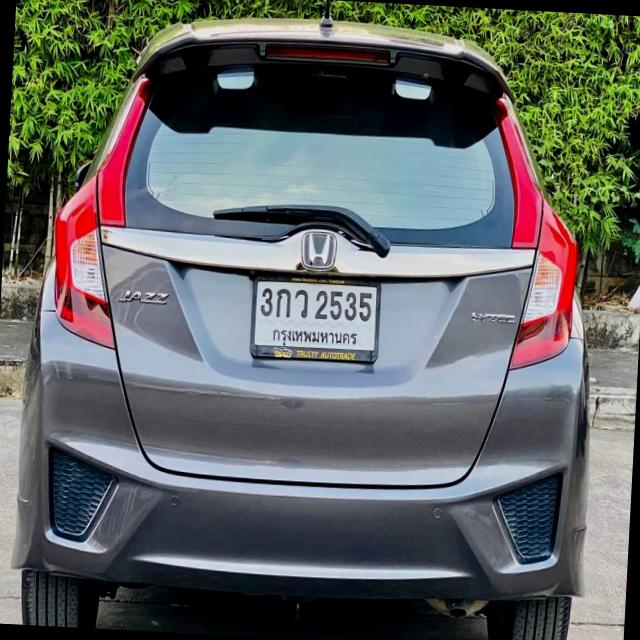license_plate: (246, 268, 382, 371)
